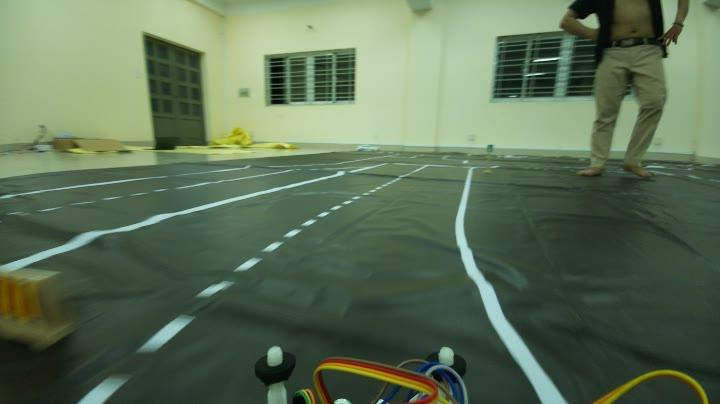roadblock: (4, 261, 66, 350)
